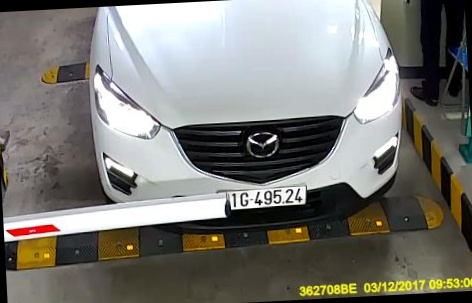plate: (208, 175, 313, 213)
